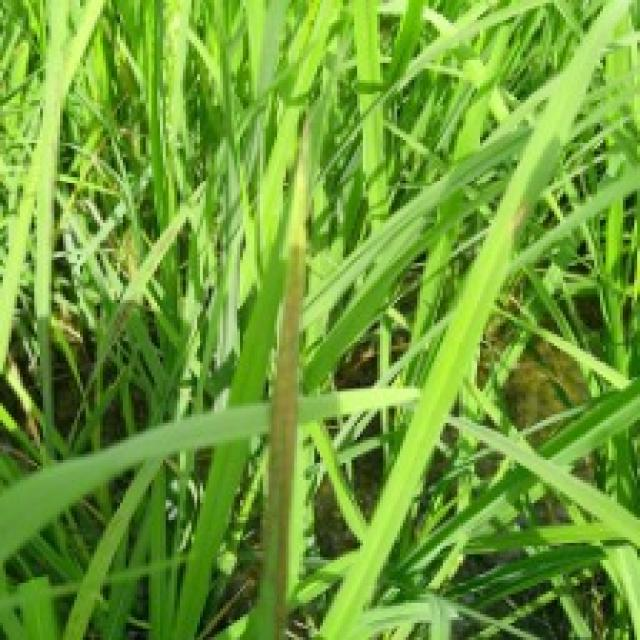Unhealthy: (266, 227, 304, 640), (506, 200, 531, 233)
